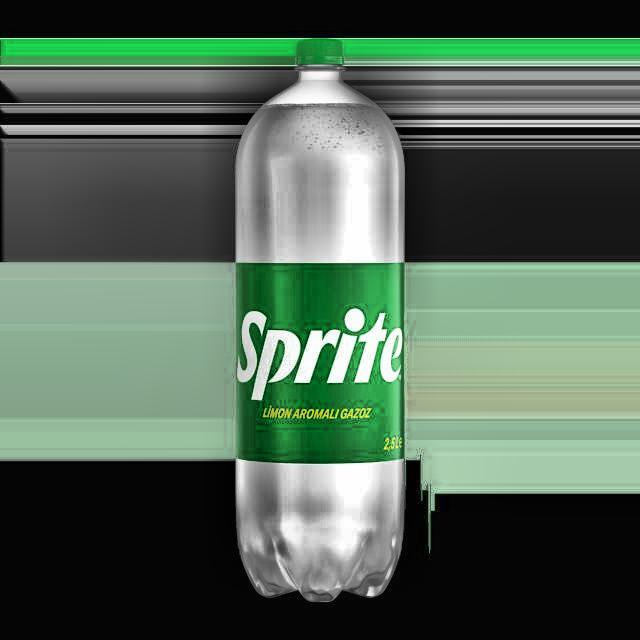plastic: (234, 38, 404, 603)
